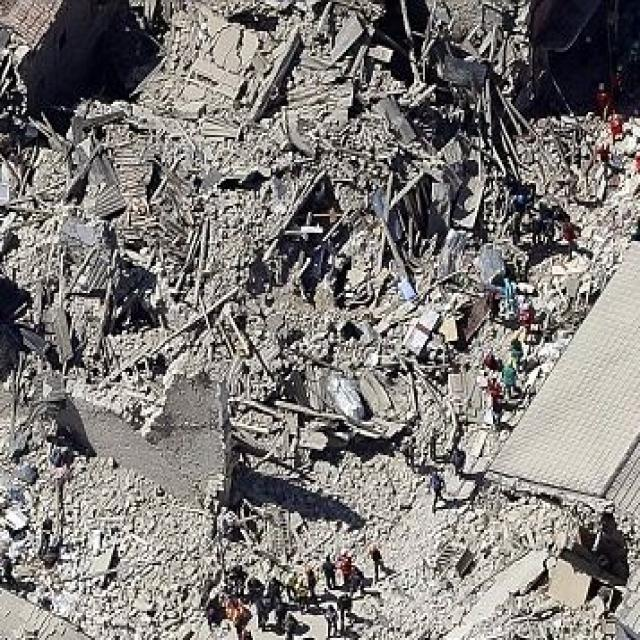collapsed_building: (14, 21, 554, 401)
